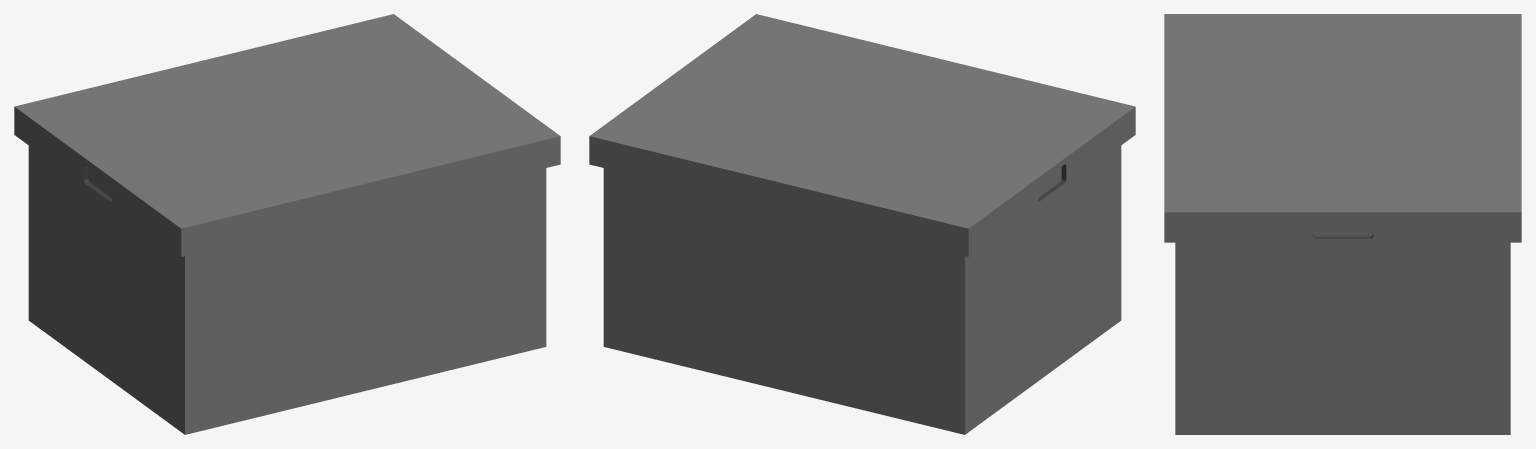
File: Box_Grey.fbx
3 renders of one model, left to right at view 1: azimuth 30°, elevation 25°; view 2: azimuth 150°, elevation 25°; view 3: azimuth 270°, elevation 25°, orthographic. The views are drawn at different scales.
Visible parts, largest first — view 1: Box.003; view 2: Box.003; view 3: Box.003.
Boxes of the visible parts, <box> form: Box.003: <box>14,14,560,434</box>; Box.003: <box>589,14,1135,434</box>; Box.003: <box>1164,14,1521,434</box>.
Size of the model in its own units: 42 by 22.46 by 32.
